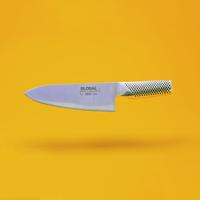knife: (13, 75, 182, 117)
